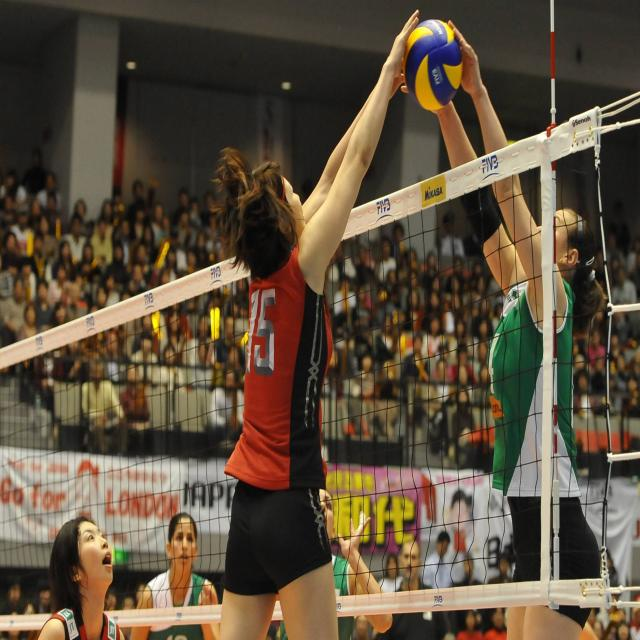body: (0, 159, 640, 640), (206, 6, 422, 640), (395, 13, 604, 640), (274, 487, 394, 640), (129, 512, 220, 639), (36, 515, 125, 640), (371, 535, 452, 640)
